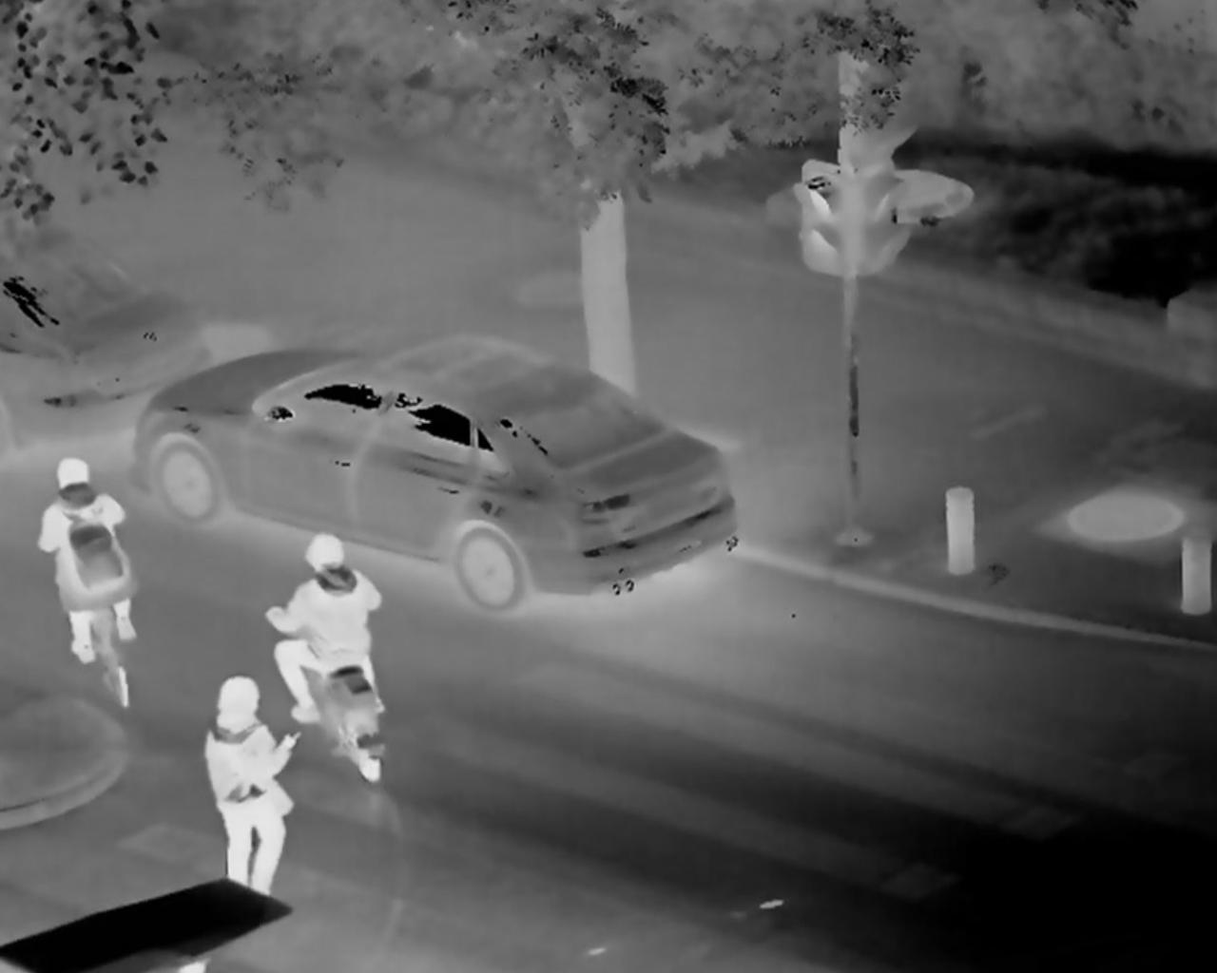person: (198, 672, 306, 905), (272, 525, 390, 729), (35, 460, 139, 674)
